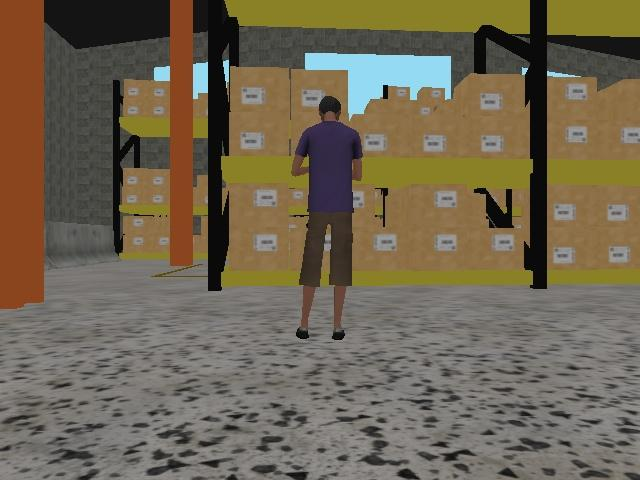person: (289, 94, 364, 342)
